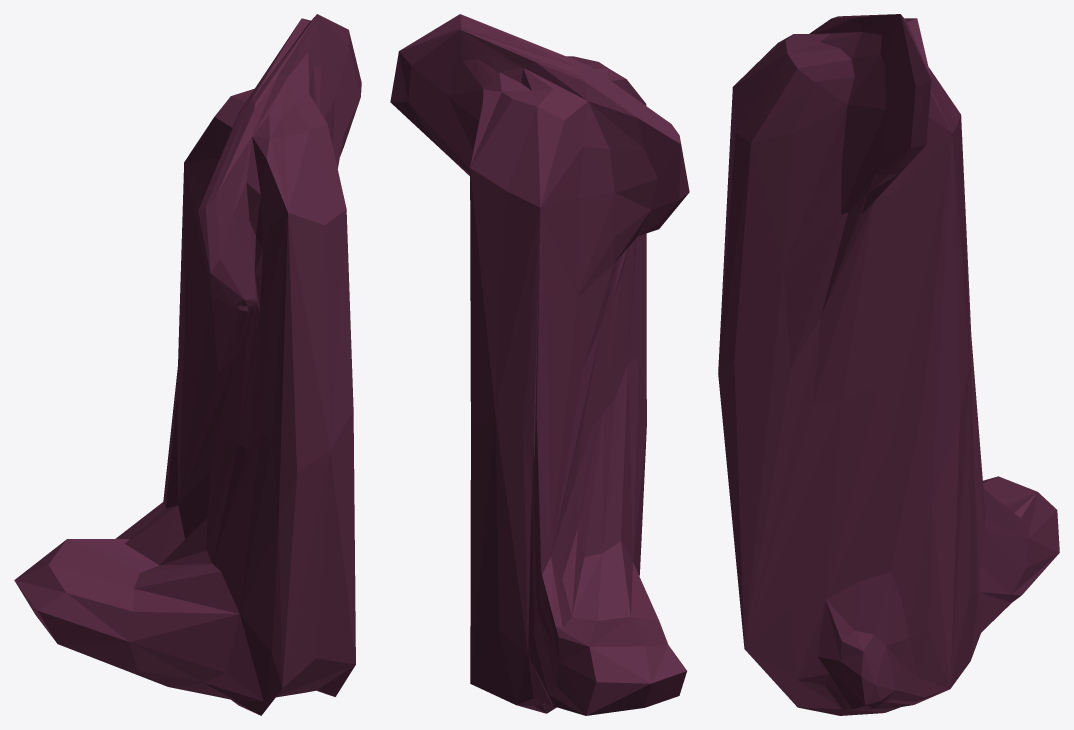
The picture shows the model from 3 angles, left to right: view 1: azimuth 30°, elevation 25°; view 2: azimuth 150°, elevation 25°; view 3: azimuth 270°, elevation 25°; orthographic projection. The views are drawn at different scales.
Parts seen in each view (by area): view 1: 548_Cube.2212; view 2: 548_Cube.2212; view 3: 548_Cube.2212.
Boxes of the visible parts, box(x1,y1,x2,y2) form: 548_Cube.2212: box(14, 14, 361, 715); 548_Cube.2212: box(390, 14, 689, 715); 548_Cube.2212: box(718, 14, 1059, 715).
Bounding box in the file's own units: 6.59 × 13.35 × 5.76.
